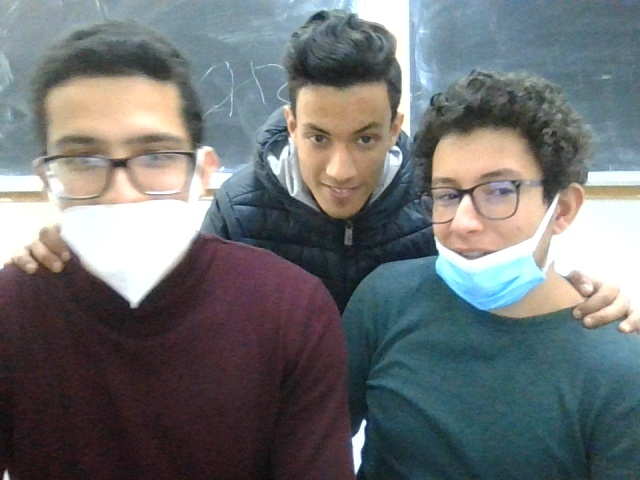mask_weared_incorrect: (20, 32, 248, 301), (418, 82, 583, 303)
without_mask: (288, 20, 399, 226)
